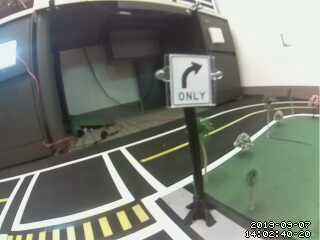Right_only_sign: (164, 52, 214, 109)
